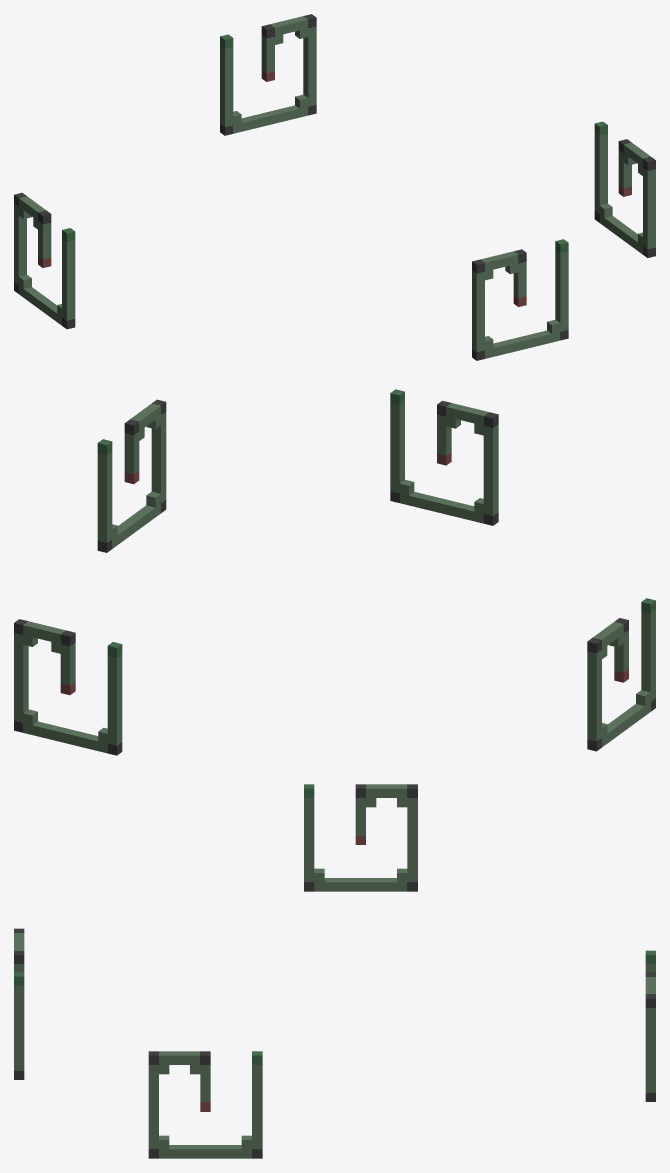
The model's file is pattern_3.glb.
The picture shows the model from 3 angles, top to bottom: view 1: azimuth 30°, elevation 25°; view 2: azimuth 150°, elevation 25°; view 3: azimuth 270°, elevation 25°; orthographic projection. The views are drawn at different scales.
Visible parts, largest first — view 1: crate_pattern_3; view 2: crate_pattern_3; view 3: crate_pattern_3.
Boxes of the visible parts, x1,y1,x2,y2 form: crate_pattern_3: (14, 14, 655, 360); crate_pattern_3: (14, 389, 655, 755); crate_pattern_3: (14, 784, 655, 1158).
Size of the model in its own units: 6.2 by 1.1 by 6.2.
1 material, 1 textured.
